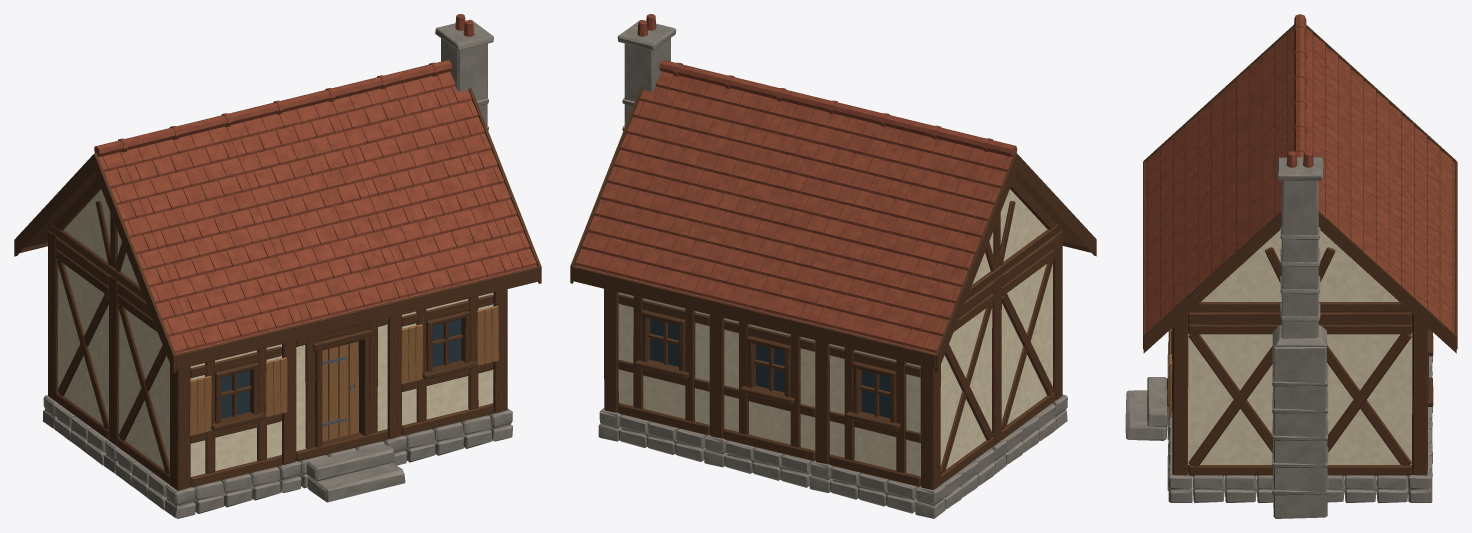
File: house_cottage.glb
The picture shows the model from 3 angles, left to right: view 1: azimuth 30°, elevation 25°; view 2: azimuth 150°, elevation 25°; view 3: azimuth 270°, elevation 25°; orthographic projection.
Visible parts, largest first — view 1: house_cottage_static; view 2: house_cottage_static; view 3: house_cottage_static.
Boxes of the visible parts, left/top/right/bottom form: house_cottage_static: left=14, top=14, right=541, bottom=518; house_cottage_static: left=570, top=14, right=1096, bottom=518; house_cottage_static: left=1125, top=14, right=1457, bottom=518.
Size of the model in its own units: 7.37 by 6.62 by 5.54.
7 materials, 7 textured.
